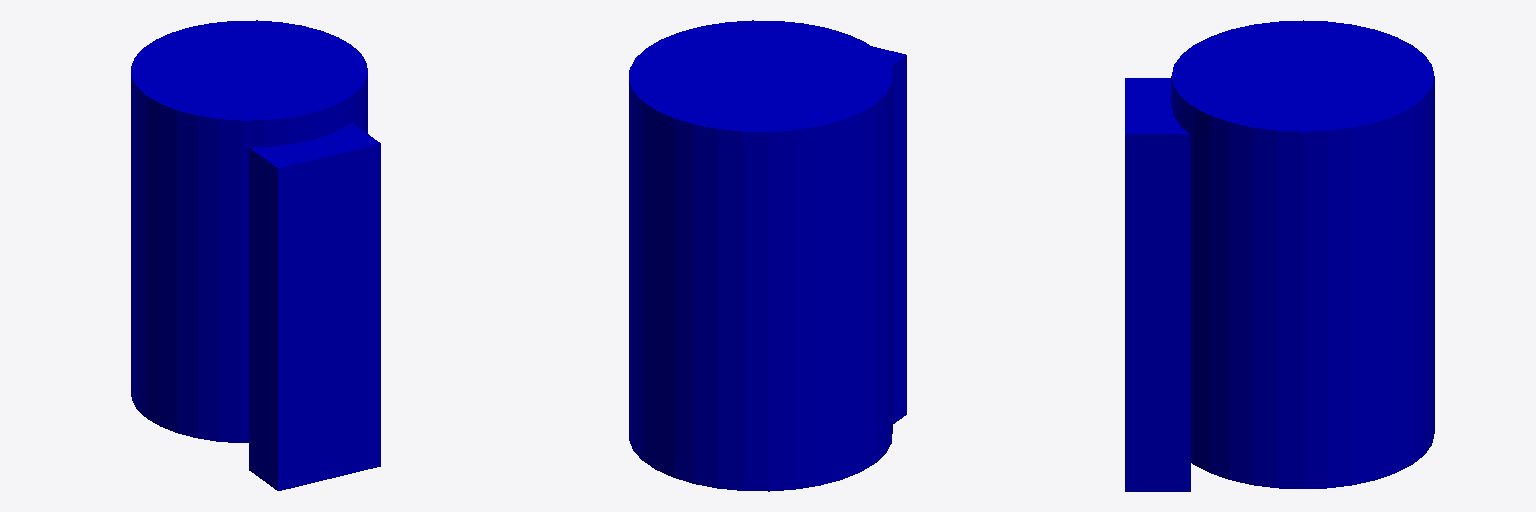
robot.urdf — physics:
<?xml version="1.0"?>
<robot name="physics">

  <material name="blue">
    <color rgba="0 0 0.8 1"/>
  </material>

  <link name="base_link">
    <visual>
      <geometry>
        <cylinder length="0.6" radius="0.2"/>
      </geometry>
      <material name="blue"/>
    </visual>
    <collision>
      <geometry>
        <cylinder length="0.6" radius="0.2"/>
      </geometry>
    </collision>
    <inertial>
      <mass value="10"/>
      <inertia ixx="1.0" ixy="0.0" ixz="0.0" iyy="1.0" iyz="0.0" izz="1.0"/>
    </inertial>
  </link>

  <link name="right_leg">
    <visual>
      <geometry>
        <box size="0.6 0.1 0.2"/>
      </geometry>
      <origin rpy="0 1.57075 0" xyz="0 0 -0.3"/>
      <material name="blue"/>
    </visual>
    <collision>
      <geometry>
        <box size="0.6 0.1 0.2"/>
      </geometry>
      <origin rpy="0 1.57075 0" xyz="0 0 -0.3"/>
    </collision>
    <inertial>
      <mass value="10"/>
      <inertia ixx="1.0" ixy="0.0" ixz="0.0" iyy="1.0" iyz="0.0" izz="1.0"/>
    </inertial>
  </link>
  <joint name="base_to_right_leg" type="fixed">
    <parent link="base_link"/>
    <child link="right_leg"/>
    <origin xyz="0 -0.22 0.25"/>
  </joint>


</robot>

--- What the picture shows (computed from the rendered views, not written in the file) ---
Views: 3 orthographic renders of the robot side by side, from view 1: azimuth 30°, elevation 25°; view 2: azimuth 150°, elevation 25°; view 3: azimuth 270°, elevation 25°.
Robot: physics — 2 links, 1 joints (1 fixed); root link base_link; default pose: all joints at 0.
Links seen in each view (by area): view 1: base_link, right_leg; view 2: base_link, right_leg; view 3: base_link, right_leg.
Boxes of the visible links, x1,y1,x2,y2 form: base_link: [131, 20, 367, 442]; right_leg: [249, 123, 380, 490]; base_link: [629, 20, 892, 491]; right_leg: [872, 46, 906, 423]; base_link: [1171, 20, 1434, 488]; right_leg: [1125, 78, 1190, 491].
Bounding box of the posed robot: 0.4 × 0.47 × 0.65 m (x, y, z).
Geometry: primitives only (box / cylinder / sphere), no mesh files.
